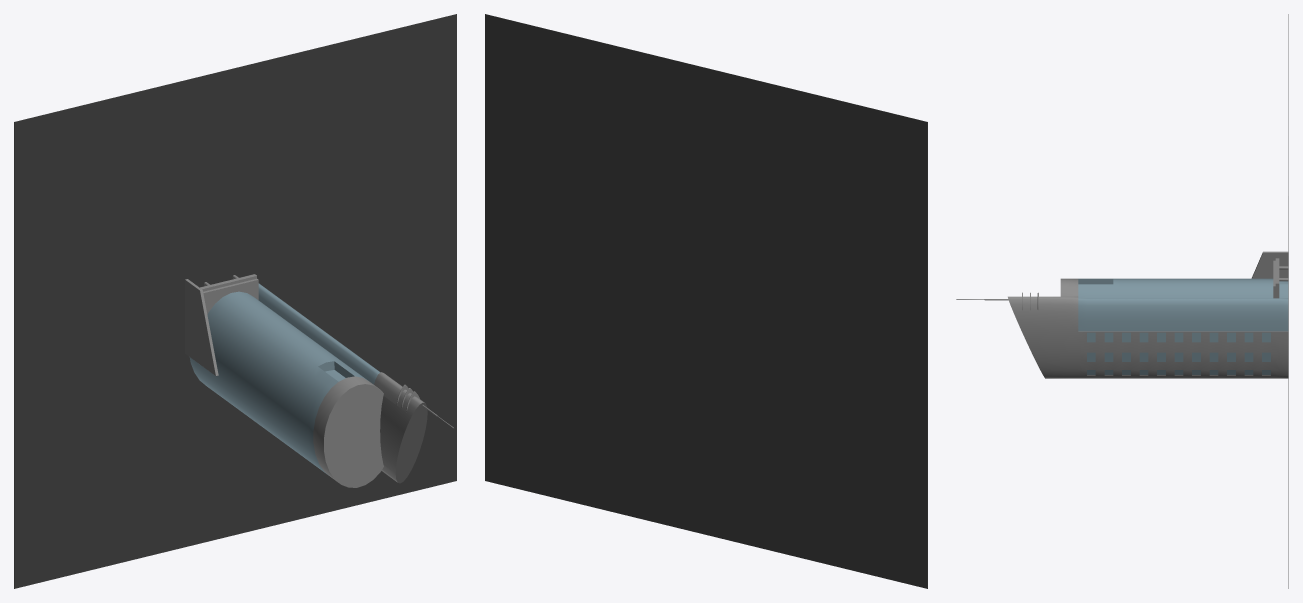
File: Building_79_FBX.fbx
The picture shows the model from 3 angles, left to right: view 1: azimuth 30°, elevation 25°; view 2: azimuth 150°, elevation 25°; view 3: azimuth 270°, elevation 25°; orthographic projection. The views are drawn at different scales.
Parts seen in each view (by area): view 1: Box09, Group50, Cylinder110, Cylinder111, Box399; view 2: Box09; view 3: Group50, Cylinder111, Box399, Box09.
Boxes of the visible parts, bbox=[...] form: Box09: bbox=[14, 14, 456, 588]; Group50: bbox=[189, 283, 380, 475]; Cylinder110: bbox=[313, 376, 383, 487]; Cylinder111: bbox=[374, 372, 427, 483]; Box399: bbox=[185, 274, 258, 375]; Box09: bbox=[485, 14, 927, 588]; Group50: bbox=[1078, 278, 1288, 374]; Cylinder111: bbox=[1008, 296, 1288, 378]; Box399: bbox=[1251, 251, 1288, 298]; Box09: bbox=[1288, 14, 1288, 588].
Size of the model in its own units: 1425 by 1436 by 1100.
